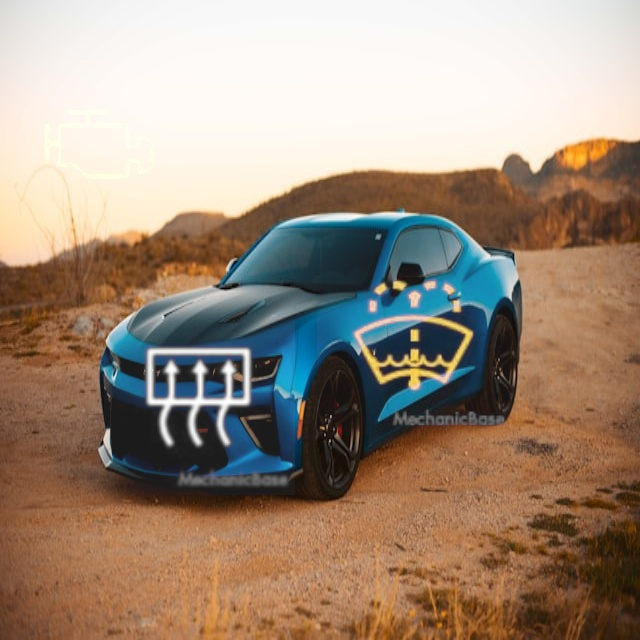symbol: (317, 240, 512, 435), (104, 304, 295, 495), (16, 63, 180, 227)
